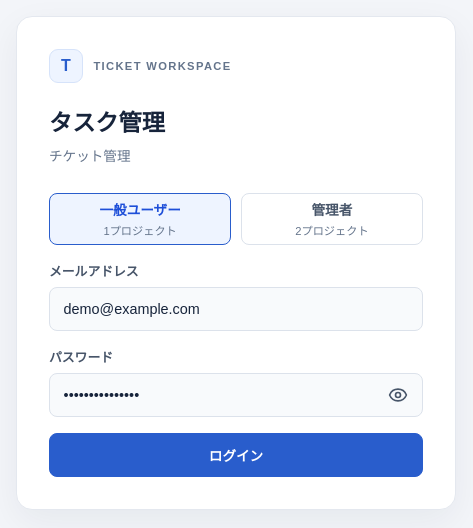
Test: LoginForm 表示・入力検証 › 公開デモで管理者アカウントを選択できること
Click the button "管理者 2プロジェクト": x=332, y=219 [241, 193, 423, 245]
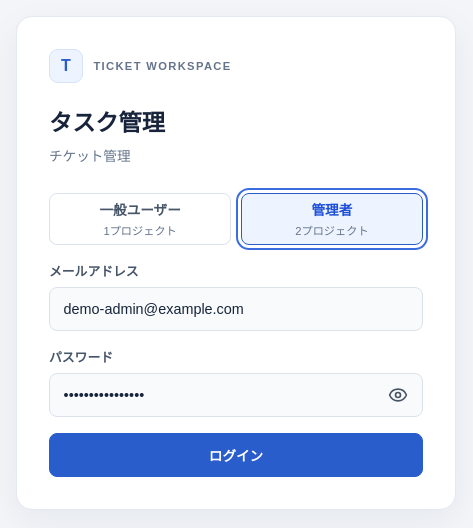
Expected: the password field labelled "パスワード" holds "TicketAdmin2026!", [49, 373, 423, 417]
Result: the field labelled "メールアドレス" holds "demo-admin@example.com" at [49, 287, 423, 331]
